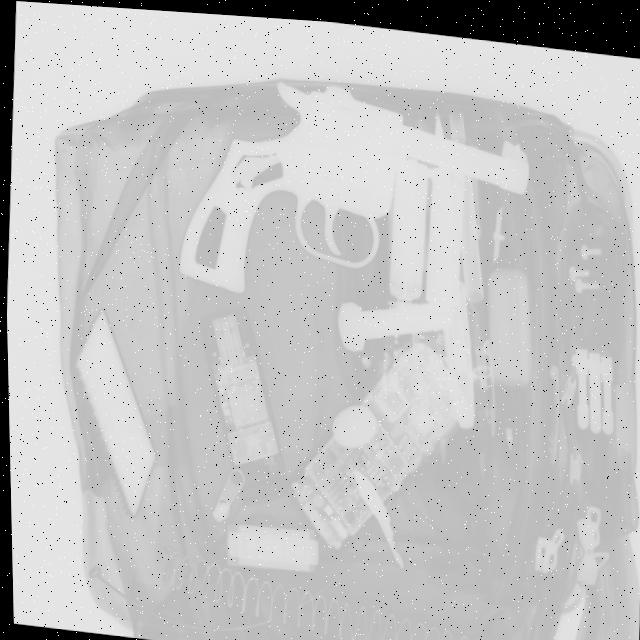pistol: (170, 63, 536, 324)
